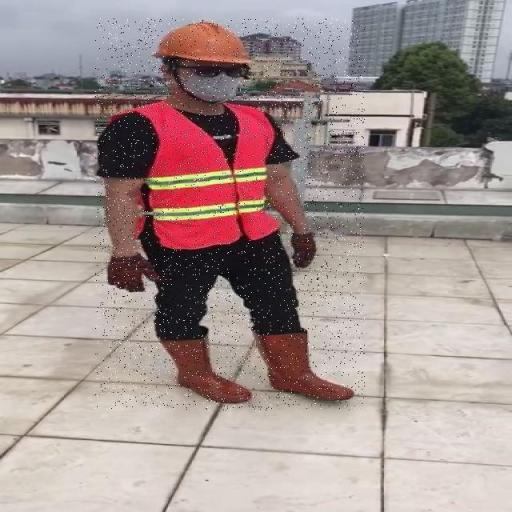Boots: (254, 330, 356, 402), (168, 332, 249, 402)
Helmet: (148, 21, 254, 68)
Person: (95, 18, 365, 410)
